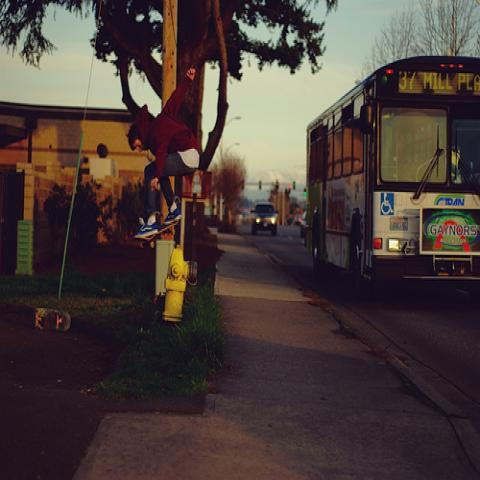bus: (306, 56, 479, 297)
car: (300, 207, 307, 246)
truck: (250, 202, 278, 236)
